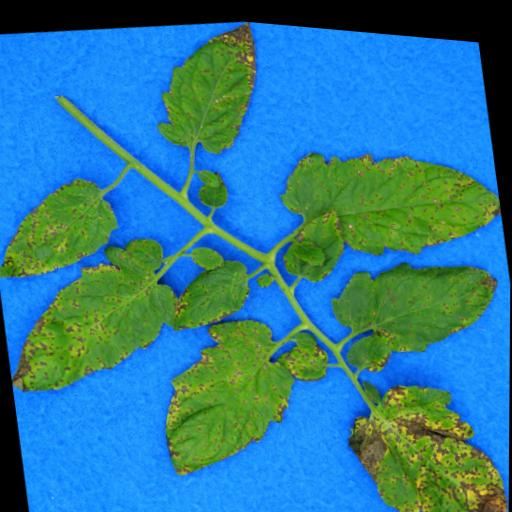Septoria: (276, 118, 508, 277), (0, 220, 191, 404), (150, 300, 310, 481), (337, 359, 510, 512), (325, 235, 509, 362), (142, 10, 270, 161), (0, 165, 125, 287), (165, 249, 258, 332), (275, 197, 351, 283), (275, 333, 332, 380), (345, 323, 397, 369), (195, 162, 231, 207), (189, 238, 226, 269)
